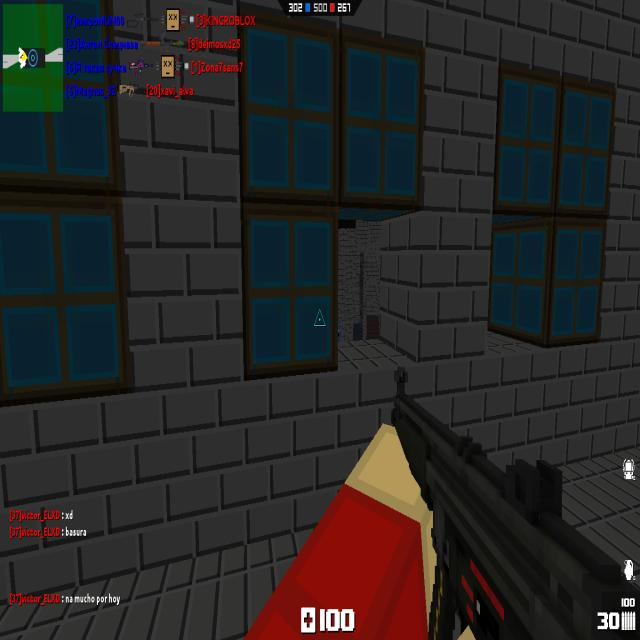enemy: (337, 323, 342, 342)
